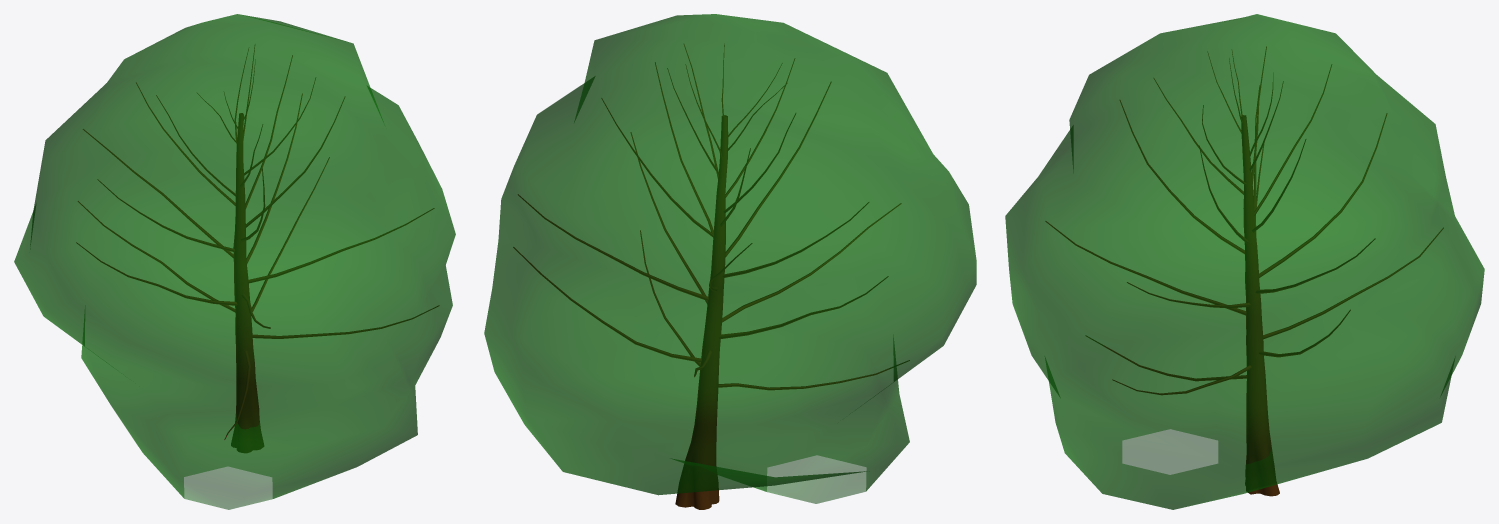
File: Object_treeOak2.FBX
3 renders of one model, left to right at view 1: azimuth 30°, elevation 25°; view 2: azimuth 150°, elevation 25°; view 3: azimuth 270°, elevation 25°, orthographic. The views are drawn at different scales.
Parts seen in each view (by area): view 1: Foliage001; view 2: Foliage001; view 3: Foliage001.
Part boxes in pixels (x1,y1,x2,y2): Foliage001: [14, 14, 455, 509]; Foliage001: [484, 14, 976, 509]; Foliage001: [1005, 14, 1484, 509].
Bounding box in the file's own units: 1059 × 1131 × 1094.
